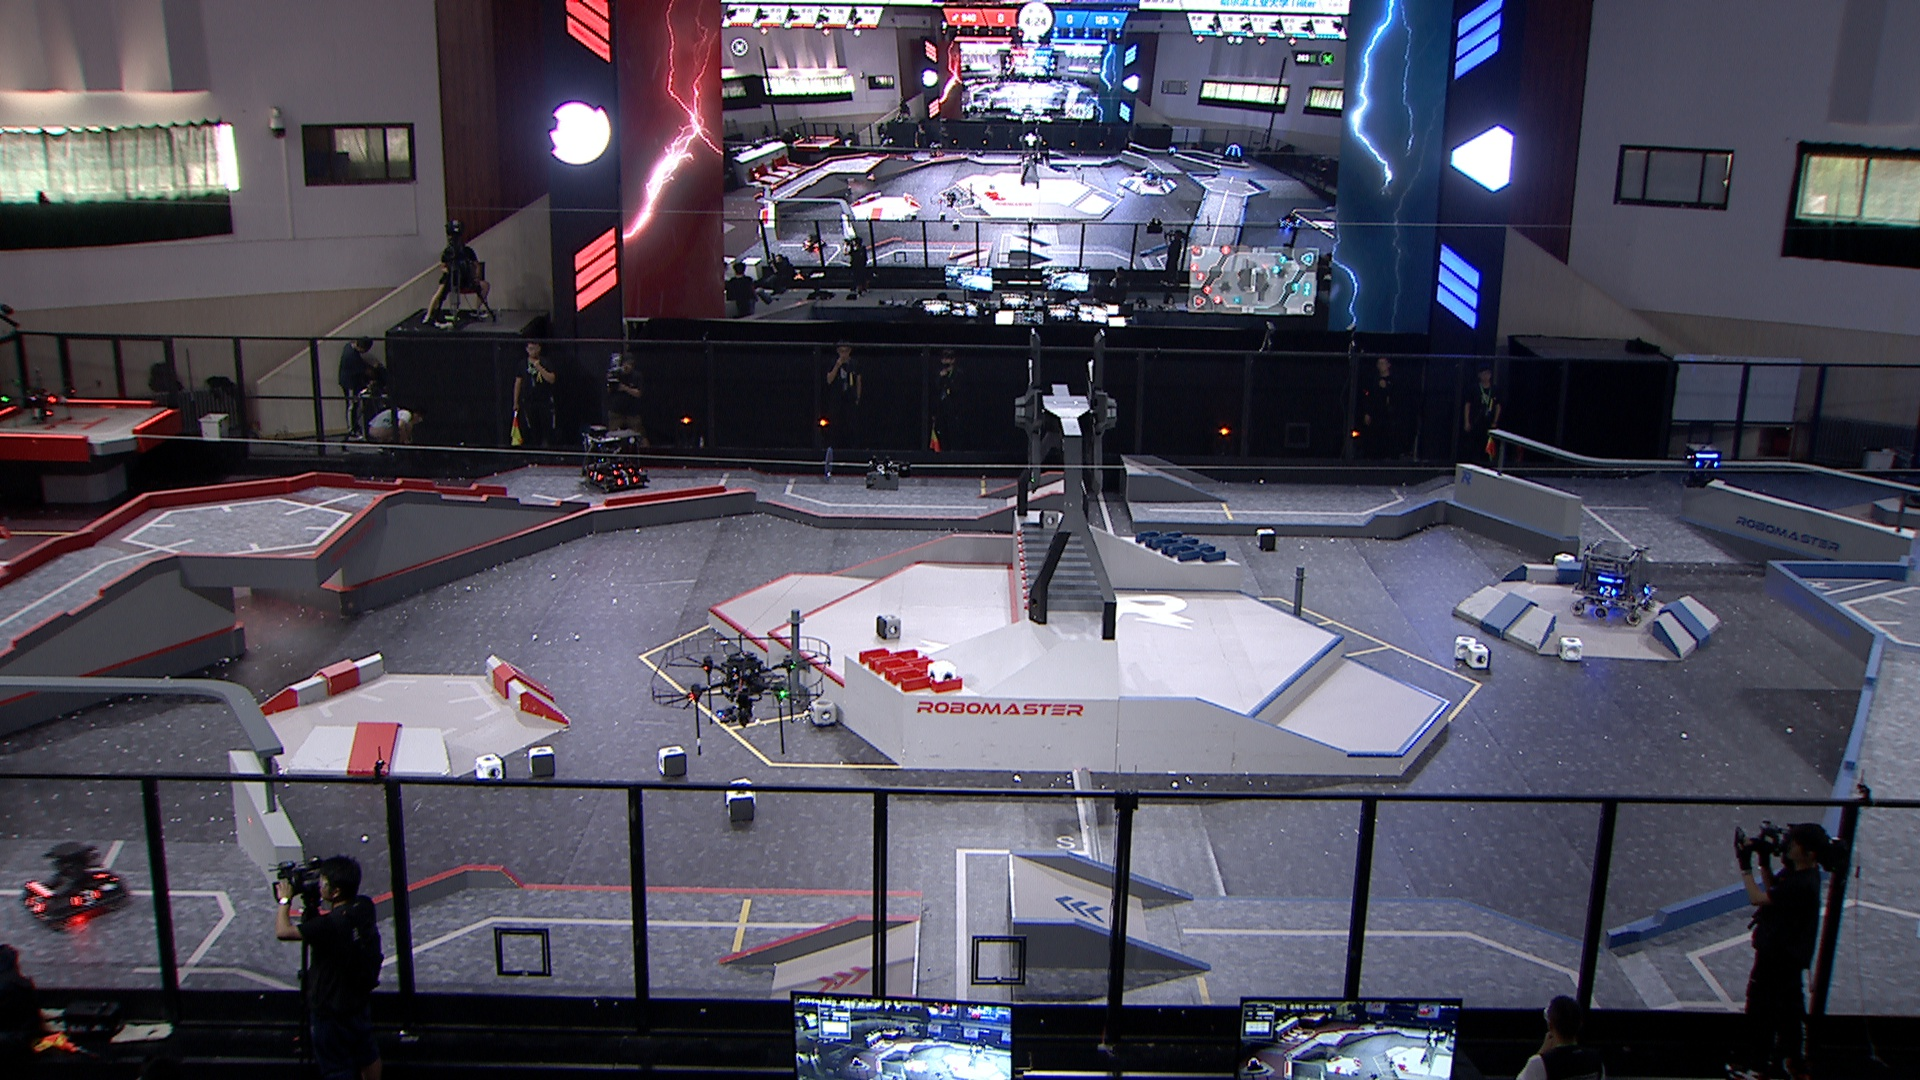armor: (71, 887, 103, 910), (25, 894, 47, 916), (87, 865, 111, 882), (1695, 458, 1721, 472), (1598, 584, 1618, 599), (617, 475, 638, 487), (588, 469, 604, 483), (613, 469, 636, 477), (1640, 583, 1654, 595)
car: (17, 841, 135, 932), (1569, 538, 1660, 624), (580, 422, 654, 495)
ignore: (1276, 211, 1304, 232), (1222, 142, 1244, 166), (803, 233, 828, 253), (1143, 167, 1162, 186), (928, 142, 945, 160), (761, 183, 778, 200), (1166, 145, 1178, 158)
watcher: (1684, 444, 1724, 491)
